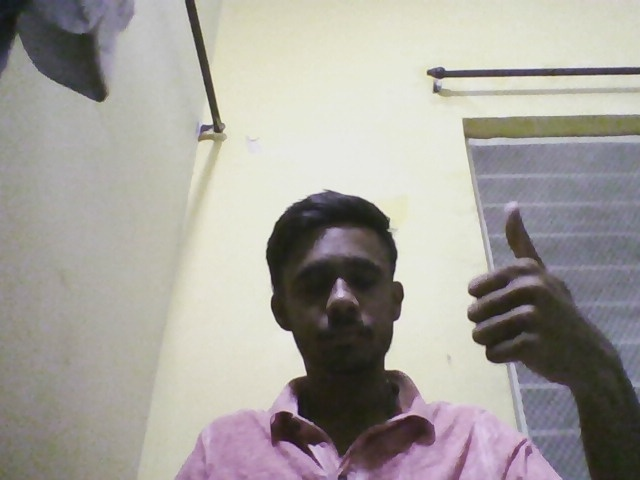yes: (454, 189, 581, 426)
